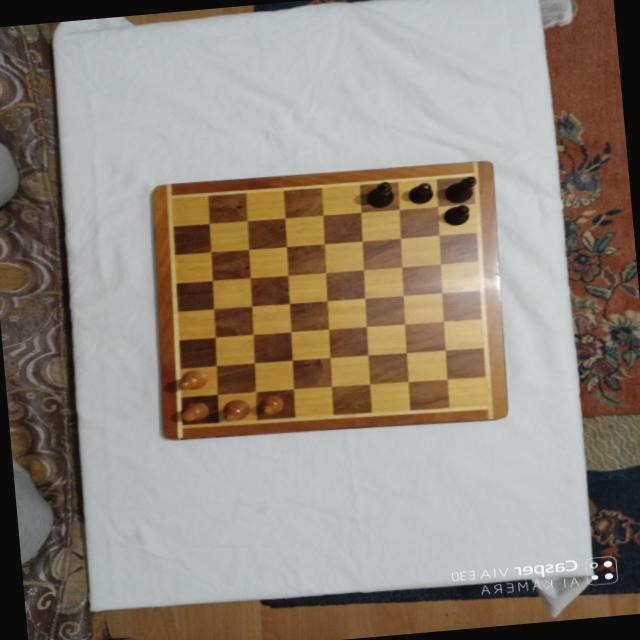black-bishop: (442, 176, 478, 204), (364, 179, 396, 210)
black-pawn: (405, 181, 435, 205), (441, 204, 471, 227)
white-bishop: (175, 368, 209, 392), (219, 397, 251, 422)
white-pawn: (178, 400, 210, 423), (258, 393, 284, 415)
